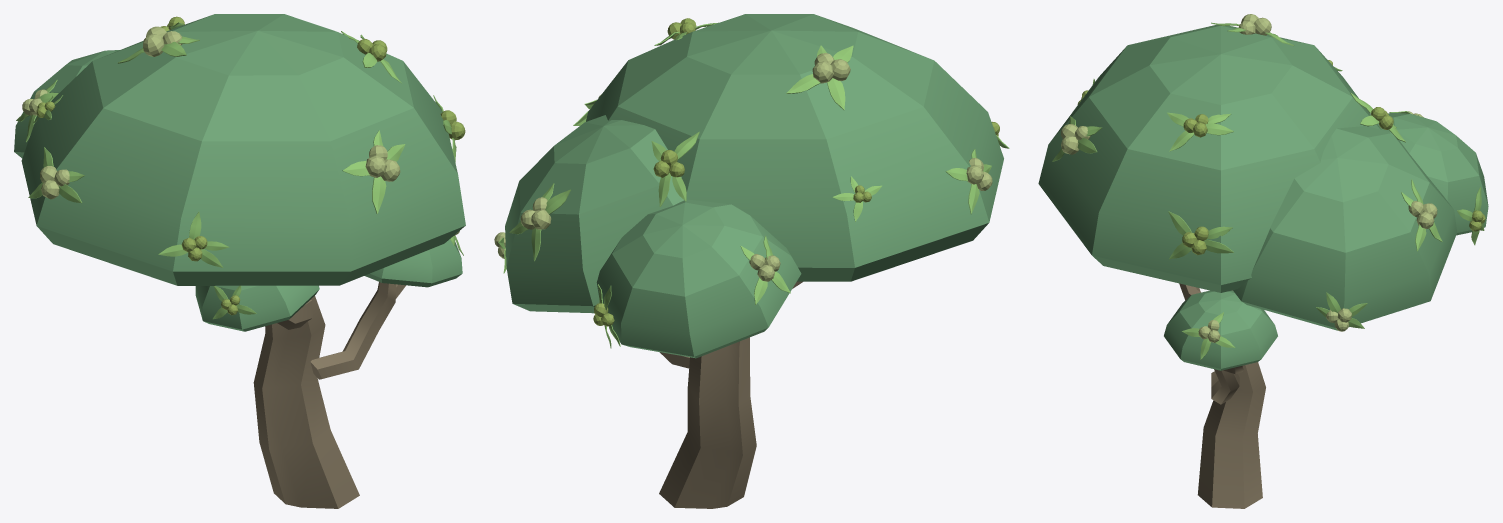
Rendered from chestnut-fruit.fbx.
3 views of the same model, side by side, from view 1: azimuth 30°, elevation 25°; view 2: azimuth 150°, elevation 25°; view 3: azimuth 270°, elevation 25° (orthographic). The views are drawn at different scales.
Parts seen in each view (by area): view 1: pSphere66; view 2: pSphere66; view 3: pSphere66.
Part boxes in pixels (x1,y1,x2,y2): pSphere66: (14,14,465,508); pSphere66: (494,14,1009,508); pSphere66: (1038,14,1488,508).
Size of the model in its own units: 21.02 by 22.91 by 22.41.
